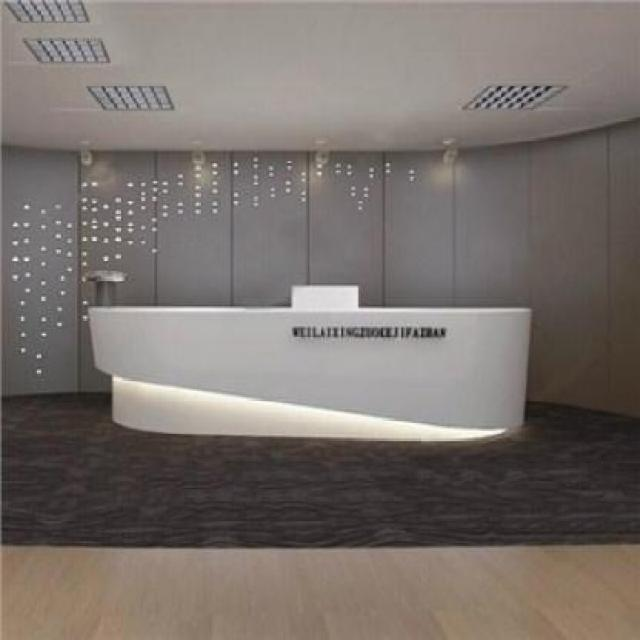frontdesk: (79, 263, 542, 450)
